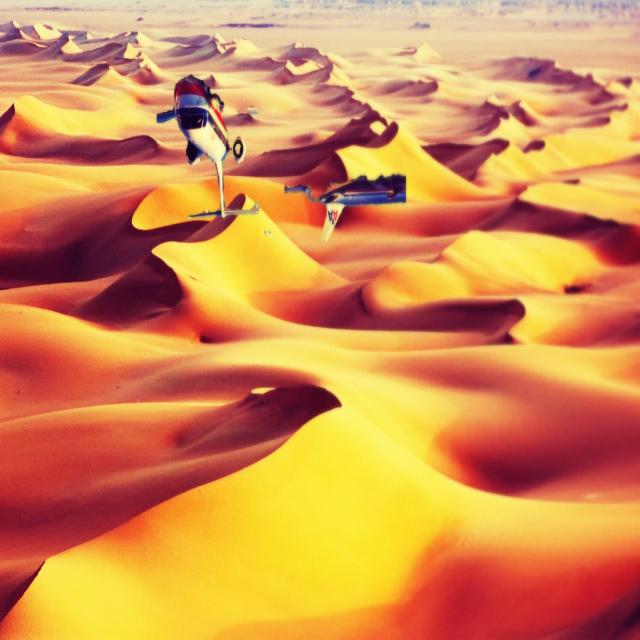airplane: (156, 73, 259, 218), (284, 172, 406, 243)
